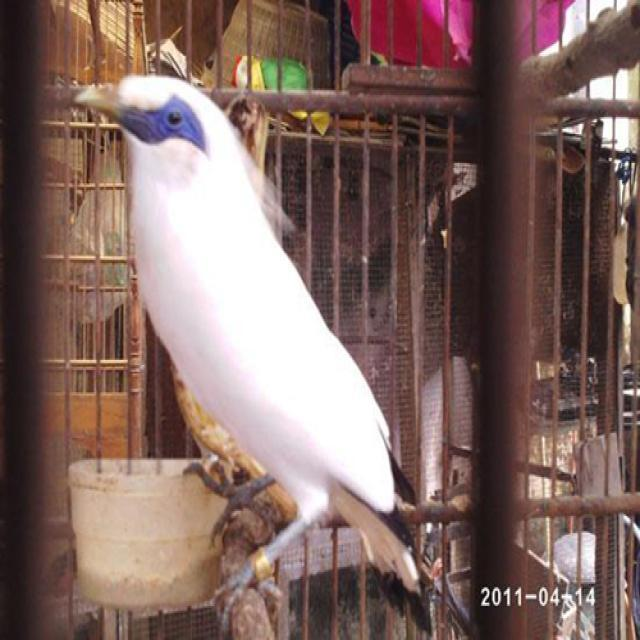Jalak Bali: (64, 59, 440, 629)
